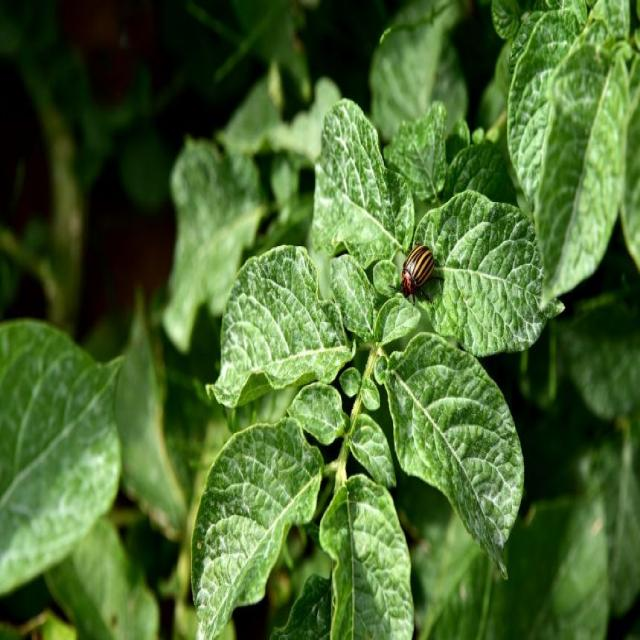ShuCaiHuaBanChong-Grown-: (399, 239, 446, 315)
